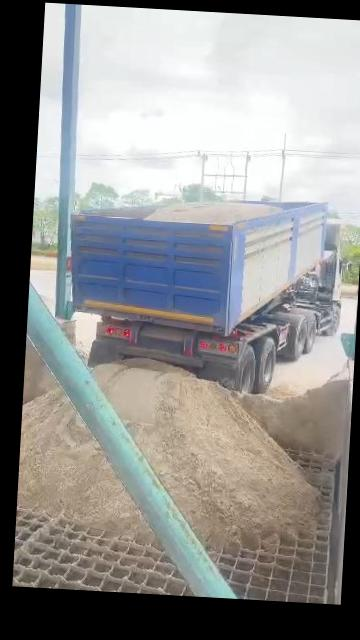sand: (94, 360, 316, 548), (18, 389, 146, 534), (237, 376, 348, 459), (146, 202, 281, 224), (23, 336, 56, 404), (269, 383, 304, 398)
